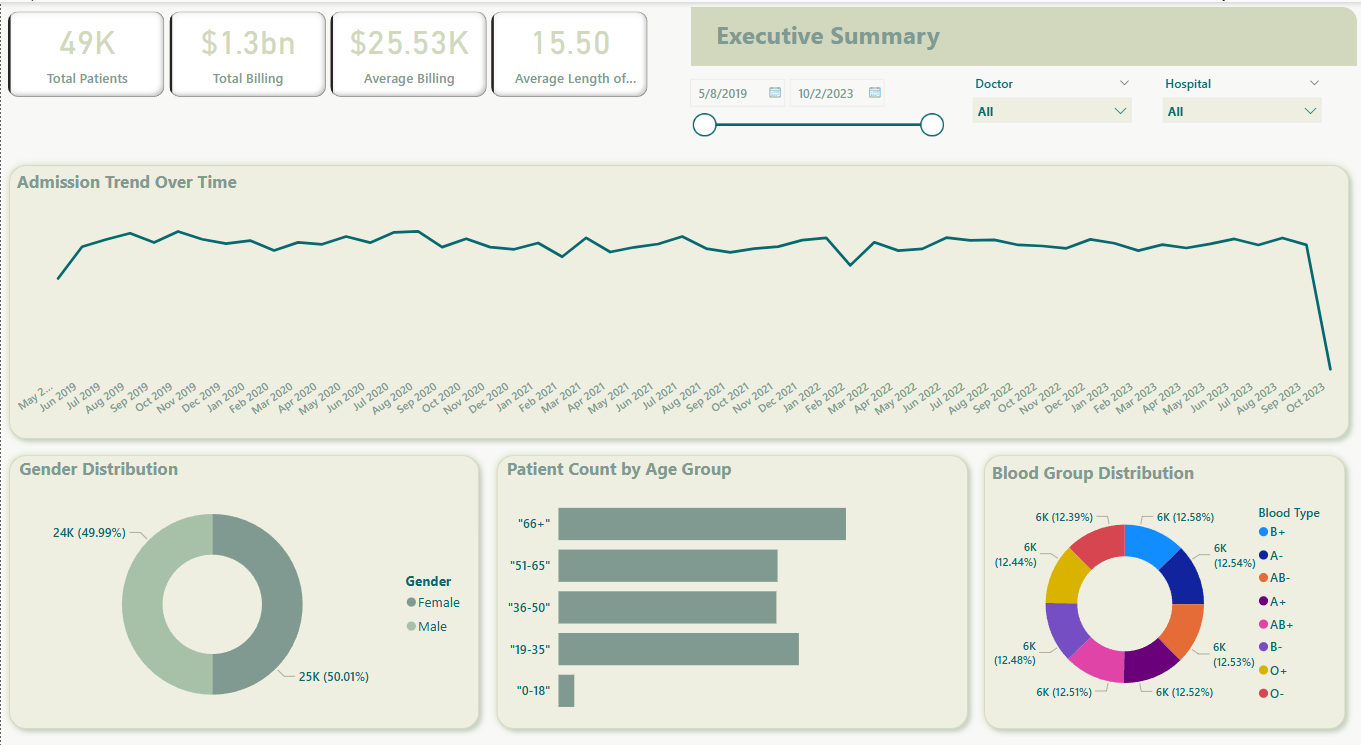

This screenshot's page, from the dashboard's own definition file:
{"tool":"powerbi","page":{"name":"Executive Summary","canvas":[1500,820],"ordinal":0},"visuals":[{"type":"cardVisual","fields":{"Data":["healthcare_dataset.Total Patients","healthcare_dataset.Total Billing","healthcare_dataset.Average Billing","healthcare_dataset.Average Lngth of Stay"]},"box":[2.7,5.5,713.1,104.4],"z":0},{"type":"shape","box":[758.8,5.9,732.4,65],"z":1000},{"type":"textbox","box":[758.4,12.4,300.9,50.8],"z":2000},{"type":"shape","box":[0,170.4,1490.8,318.8],"z":3000},{"type":"shape","box":[0,489.1,534.5,318.8],"z":4000},{"type":"lineChart","title":"Admission Trend Over Time","fields":{"Category":["healthcare_dataset.Admission Month"],"Y":["healthcare_dataset.Total Patients"]},"box":[12.4,184.1,1464.7,291.3],"z":5000},{"type":"donutChart","title":"Gender Distribution ","fields":{"Category":["healthcare_dataset.Gender"],"Y":["healthcare_dataset.Total Patients"]},"box":[15.1,500.1,505.6,299.5],"z":6000},{"type":"shape","box":[535.9,489.1,535.9,318.8],"z":7000},{"type":"clusteredBarChart","title":"Patient Count by Age Group ","fields":{"Y":["healthcare_dataset.Total Patients"],"Category":["healthcare_dataset.Age group"]},"box":[551,500.1,507,299.5],"z":8000},{"type":"shape","box":[1071.4,488.5,415,319.2],"z":9000},{"type":"donutChart","title":"Blood Group Distribution","fields":{"Category":["healthcare_dataset.Blood Type"],"Y":["healthcare_dataset.Total Patients"]},"box":[1083.9,503.8,392.8,290.1],"z":10000},{"type":"slicer","fields":{"Values":["healthcare_dataset.Date of Admission"]},"box":[744.7,74.2,299.5,79.7],"z":11000},{"type":"slicer","fields":{"Values":["healthcare_dataset.Doctor"]},"box":[1058,75.6,195.1,79.7],"z":12000},{"type":"slicer","fields":{"Values":["healthcare_dataset.Hospital"]},"box":[1266.8,75.6,195.1,79.7],"z":13000}]}

Visuals, with their boxes in screenshot pixels (x1, y1, x2, y2), scaled from the page's 1500x820 canvas onto the 1361x745 screenshot:
cardVisual - healthcare_dataset.Total Patients x healthcare_dataset.Total Billing: bbox=(2, 5, 649, 100)
shape: bbox=(688, 5, 1353, 64)
textbox: bbox=(688, 11, 961, 57)
shape: bbox=(0, 155, 1353, 444)
shape: bbox=(0, 444, 485, 734)
"Admission Trend Over Time" lineChart: bbox=(11, 167, 1340, 432)
"Gender Distribution " donutChart: bbox=(14, 454, 472, 726)
shape: bbox=(486, 444, 972, 734)
"Patient Count by Age Group " clusteredBarChart: bbox=(500, 454, 960, 726)
shape: bbox=(972, 444, 1349, 734)
"Blood Group Distribution" donutChart: bbox=(983, 458, 1340, 721)
slicer - healthcare_dataset.Date of Admission: bbox=(676, 67, 947, 140)
slicer - healthcare_dataset.Doctor: bbox=(960, 69, 1137, 141)
slicer - healthcare_dataset.Hospital: bbox=(1149, 69, 1326, 141)
